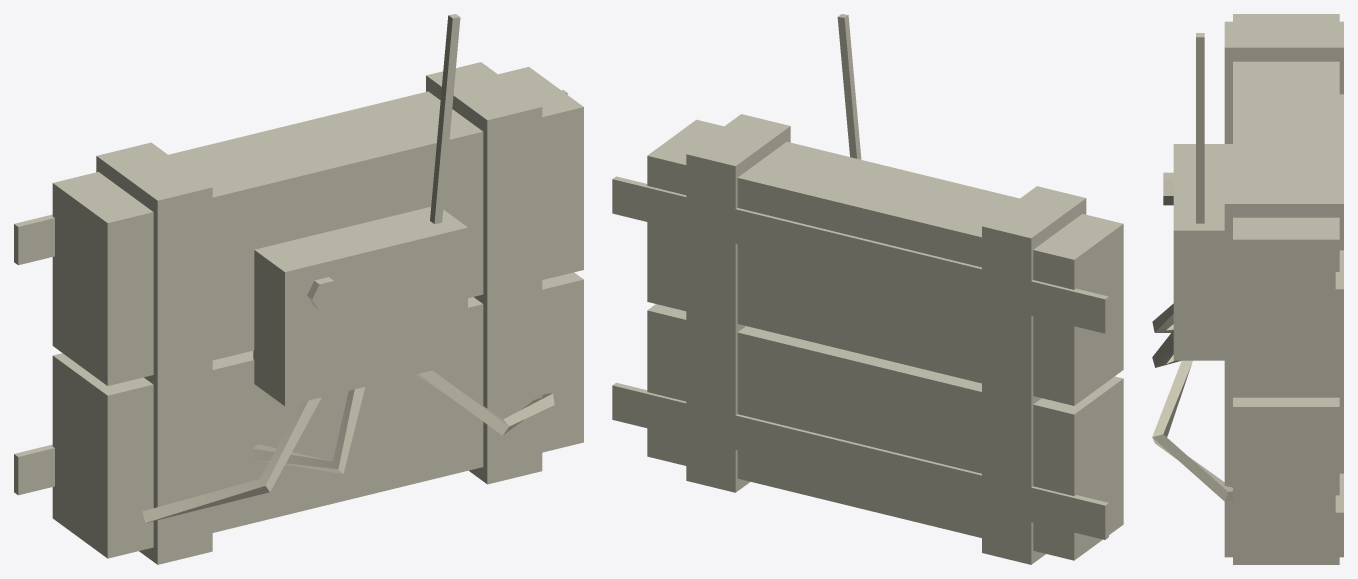
The model's file is bomb.glb.
3 renders of one model, left to right at view 1: azimuth 30°, elevation 25°; view 2: azimuth 150°, elevation 25°; view 3: azimuth 270°, elevation 25°, orthographic. The views are drawn at different scales.
Visible parts, largest first — view 1: bomb; view 2: bomb; view 3: bomb.
Boxes of the visible parts, left/top/right/bottom form: bomb: left=14, top=14, right=583, bottom=564; bomb: left=612, top=14, right=1123, bottom=564; bomb: left=1152, top=14, right=1343, bottom=564.
Size of the model in its own units: 0.3 by 0.2552 by 0.0934.
